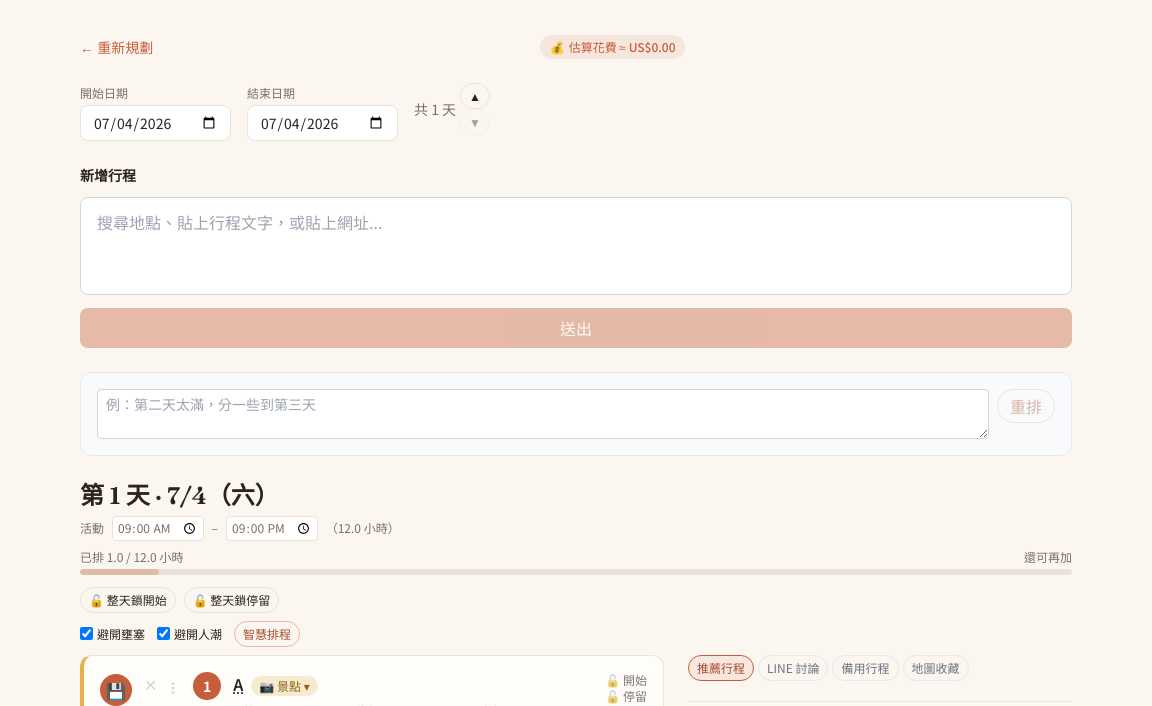
Test: reserve card can be added into the day and removed from reserve
What coordinates should you click on to do the following:
click the button with test id "side-panel-tab-reserve"
I would click on:
 (866, 668)
Its box is [832,655,898,681].
(page scrolled)
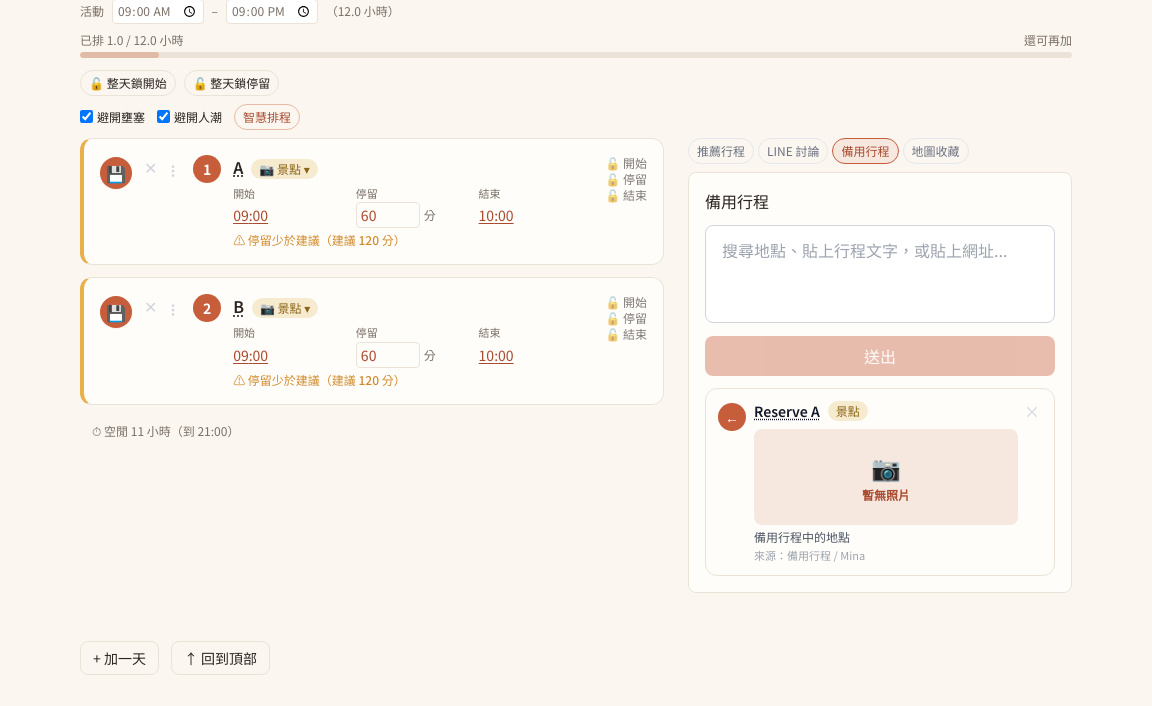
What coordinates should you click on to do the following:
click the button with test id "rec-add-r1"
I would click on:
 (732, 417)
Its box is [718,403,746,431].
(page scrolled)
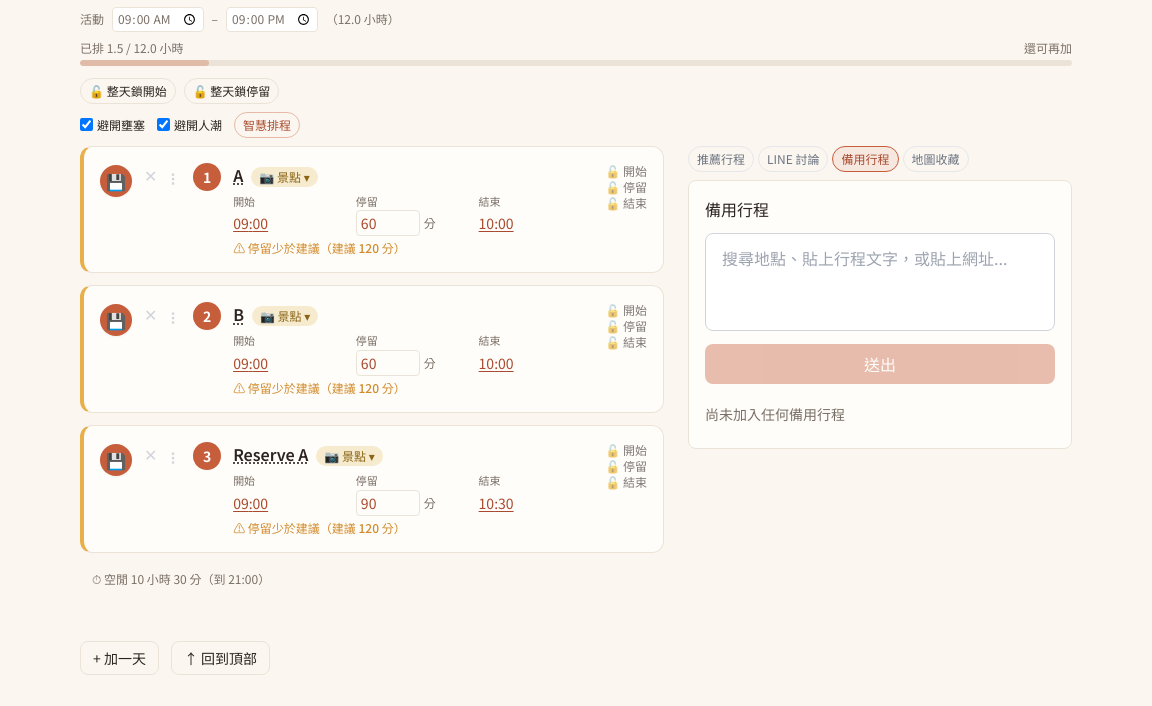
Result: the list item with test id "reserve-card-r1" is gone
